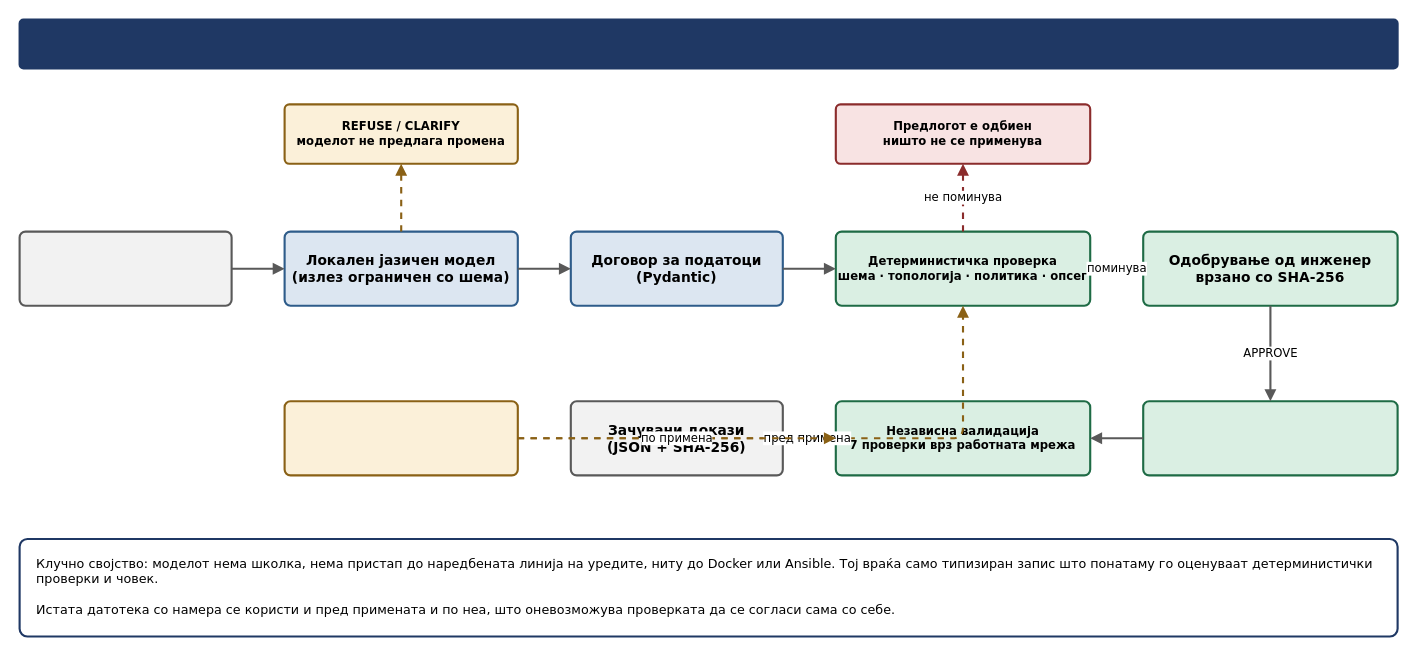
The diagram is 1416 pixels wide and 655 high, and some of its shapes have lost their labels. The centre of each missing label's shape, as x and y in pixels:
Ansible (ограничен опсег на промени): point (1270, 438)
Барање на природен јазик: point (125, 268)
ЗАШТИТЕН ПРОЦЕС — од барање на природен јазик до проверена мрежна состојба: point (708, 43)
Машински читлива намера (intended_state.yaml): point (400, 438)
